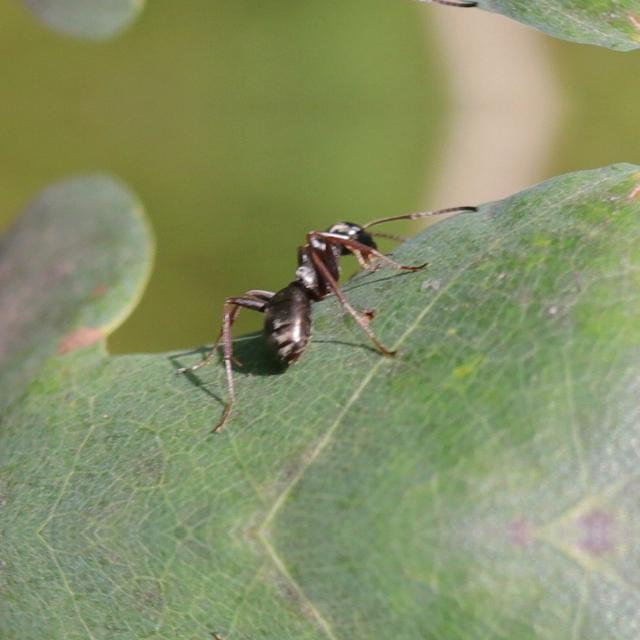Formica: (222, 210, 406, 378)
